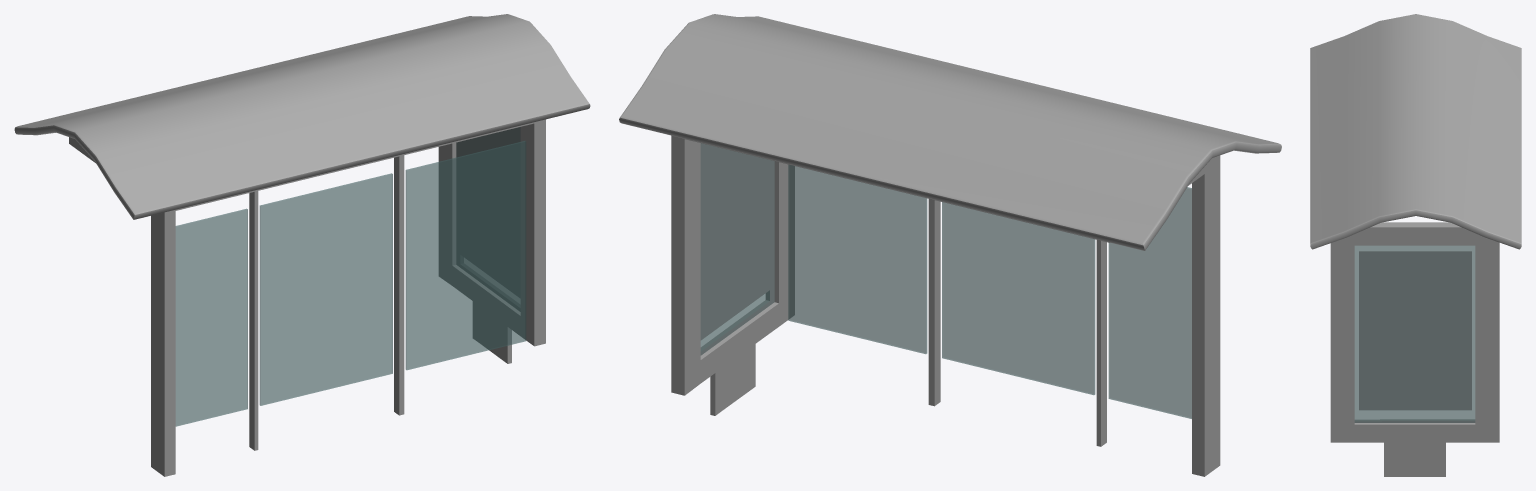
Rendered from BusStation 1.fbx.
3 views of the same model, side by side, from view 1: azimuth 30°, elevation 25°; view 2: azimuth 150°, elevation 25°; view 3: azimuth 270°, elevation 25° (orthographic). The views are drawn at different scales.
Parts seen in each view (by area): view 1: StationGlass, Roof, Station, Label; view 2: Roof, StationGlass, Station, Label; view 3: Roof, StationGlass, Label, Station.
Part boxes in pixels (x1,y1,x2,y2): StationGlass: (175, 127, 526, 426); Roof: (14, 14, 590, 219); Station: (69, 119, 545, 476); Label: (459, 127, 520, 297); Roof: (619, 14, 1281, 250); StationGlass: (700, 143, 1191, 418); Station: (671, 135, 1220, 476); Label: (700, 143, 770, 339); Roof: (1310, 14, 1521, 249); StationGlass: (1354, 245, 1475, 422); Label: (1359, 251, 1471, 410); Station: (1330, 222, 1499, 476).
Bounding box in the file's own units: 0.175 × 0.1173 × 0.0795.
